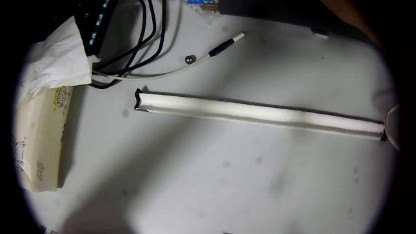gangzhu: (183, 53, 195, 64)
